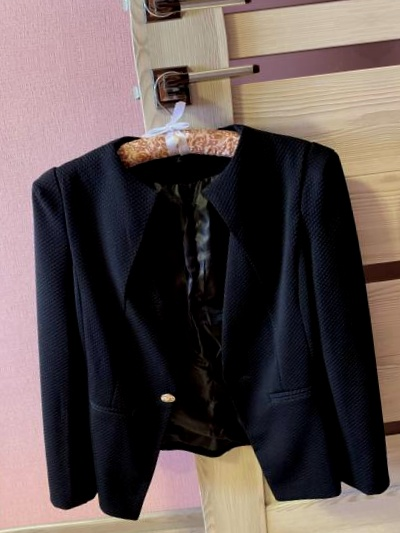Blazer: (0, 90, 400, 533), (394, 42, 400, 490), (0, 139, 6, 533)
